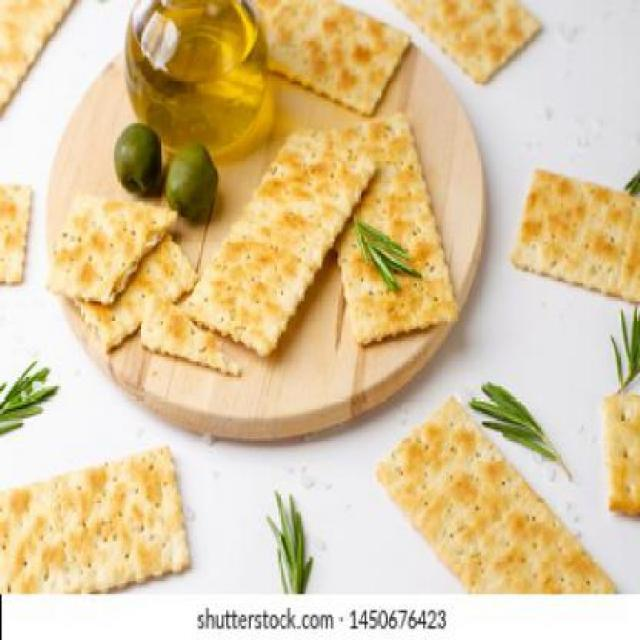Cracker packaged: (374, 393, 620, 596), (186, 125, 380, 350), (320, 110, 458, 336), (2, 444, 202, 590), (52, 192, 176, 312)
